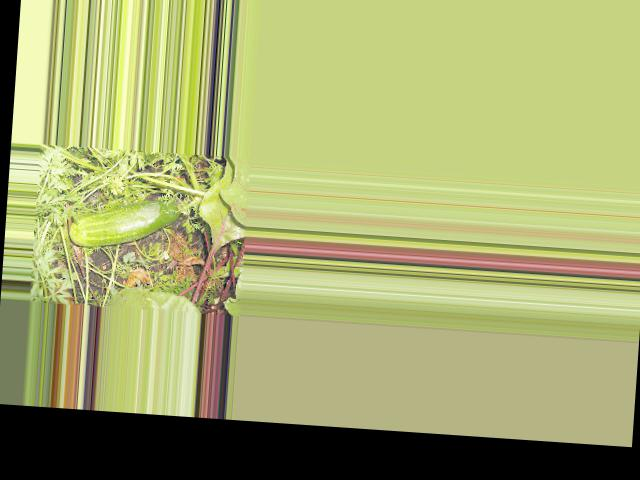cucumber: (70, 192, 182, 253)
